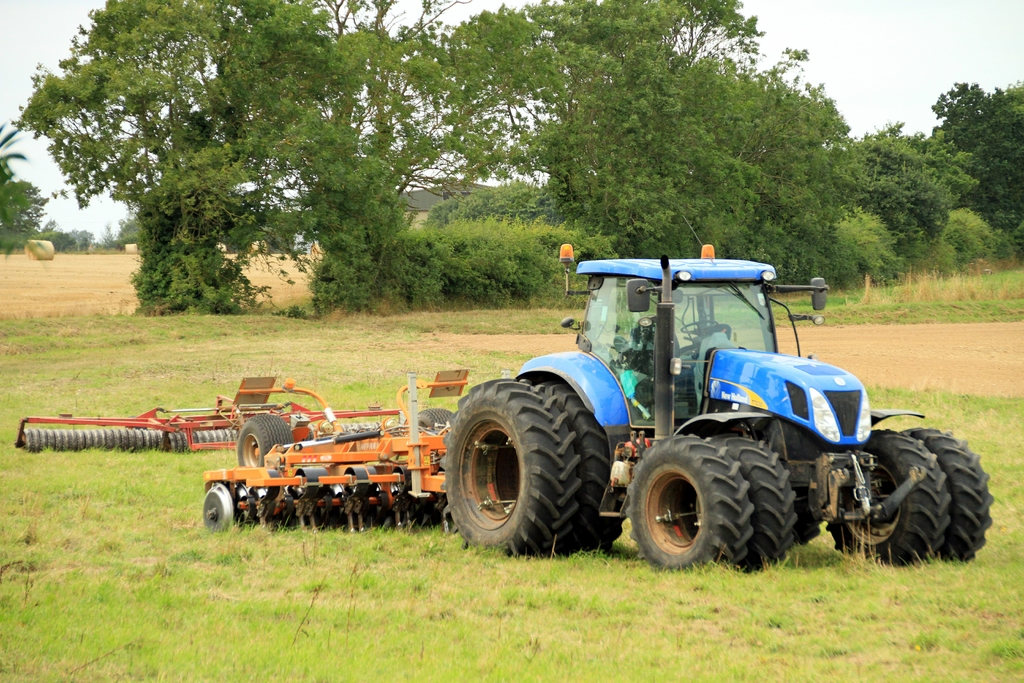Tree: (0, 0, 1024, 314)
